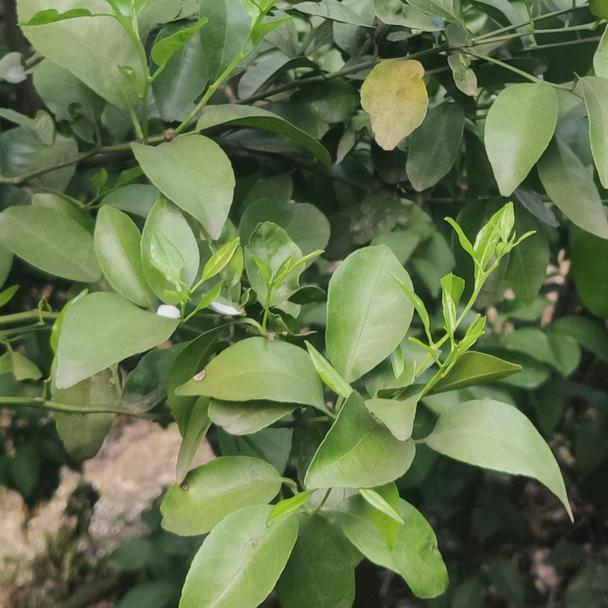shoot: (403, 196, 532, 370)
